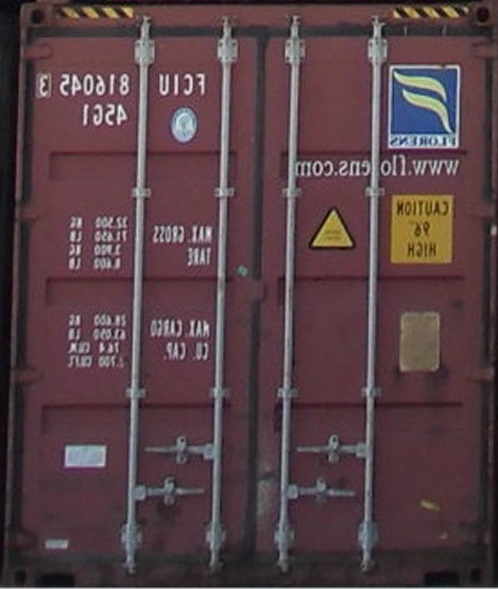container_door: (5, 7, 488, 581)
